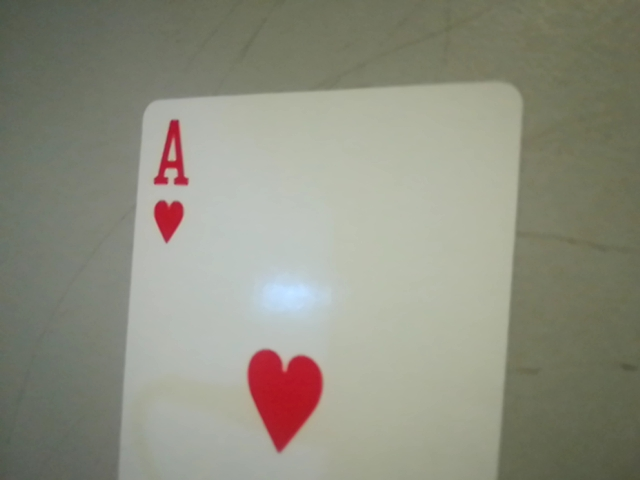hx a: (136, 111, 203, 254)
